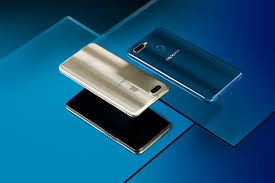oppo: (124, 25, 245, 105)
